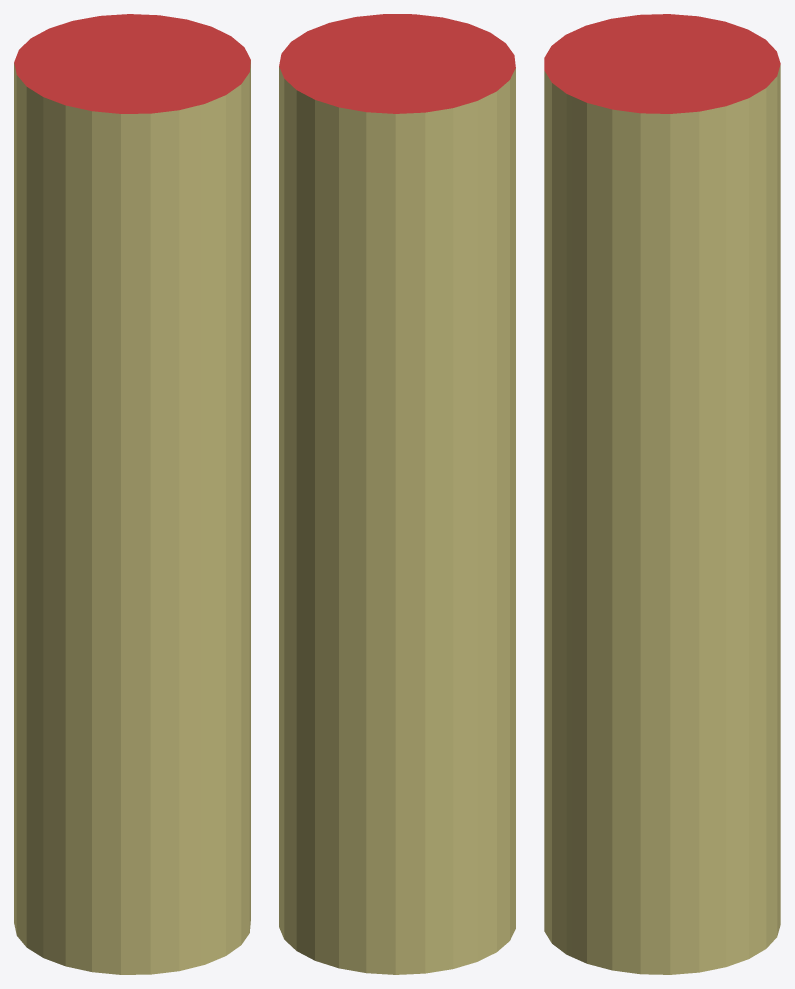
3 views of the same model, side by side, from view 1: azimuth 30°, elevation 25°; view 2: azimuth 150°, elevation 25°; view 3: azimuth 270°, elevation 25° (orthographic).
Bounding box in the file's own units: 3.46 × 3.46 × 13.88.
